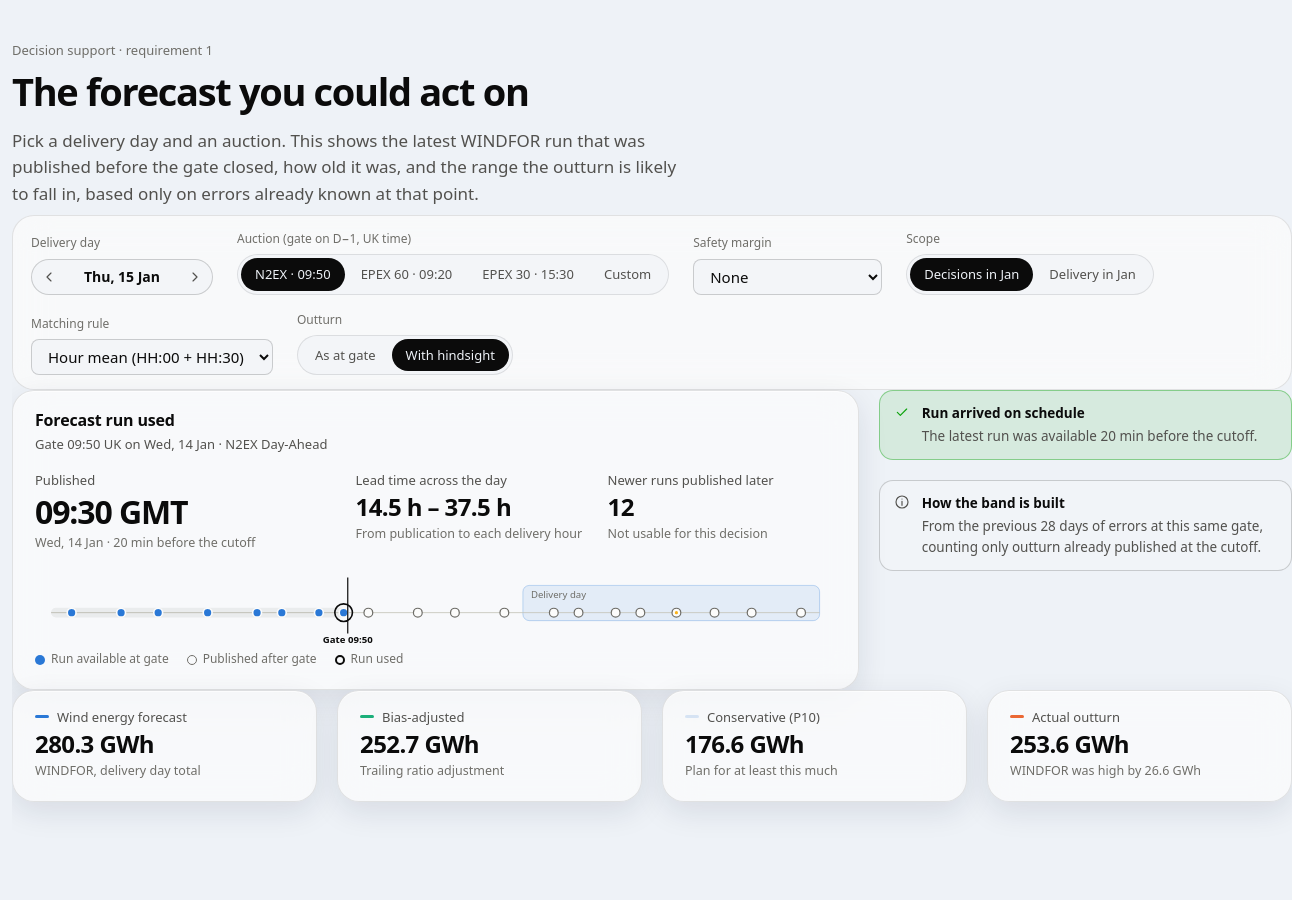
it: DecisionPage › hides the outturn when viewing as at the gate
Expected: the text "09:30 GMT" is shown, [35, 490, 188, 533]
Expected: the text "253.6 GWh" is shown, [1010, 727, 1129, 760]
Click the radio button labelled "As at gate" at (345, 355), box [301, 339, 390, 371]
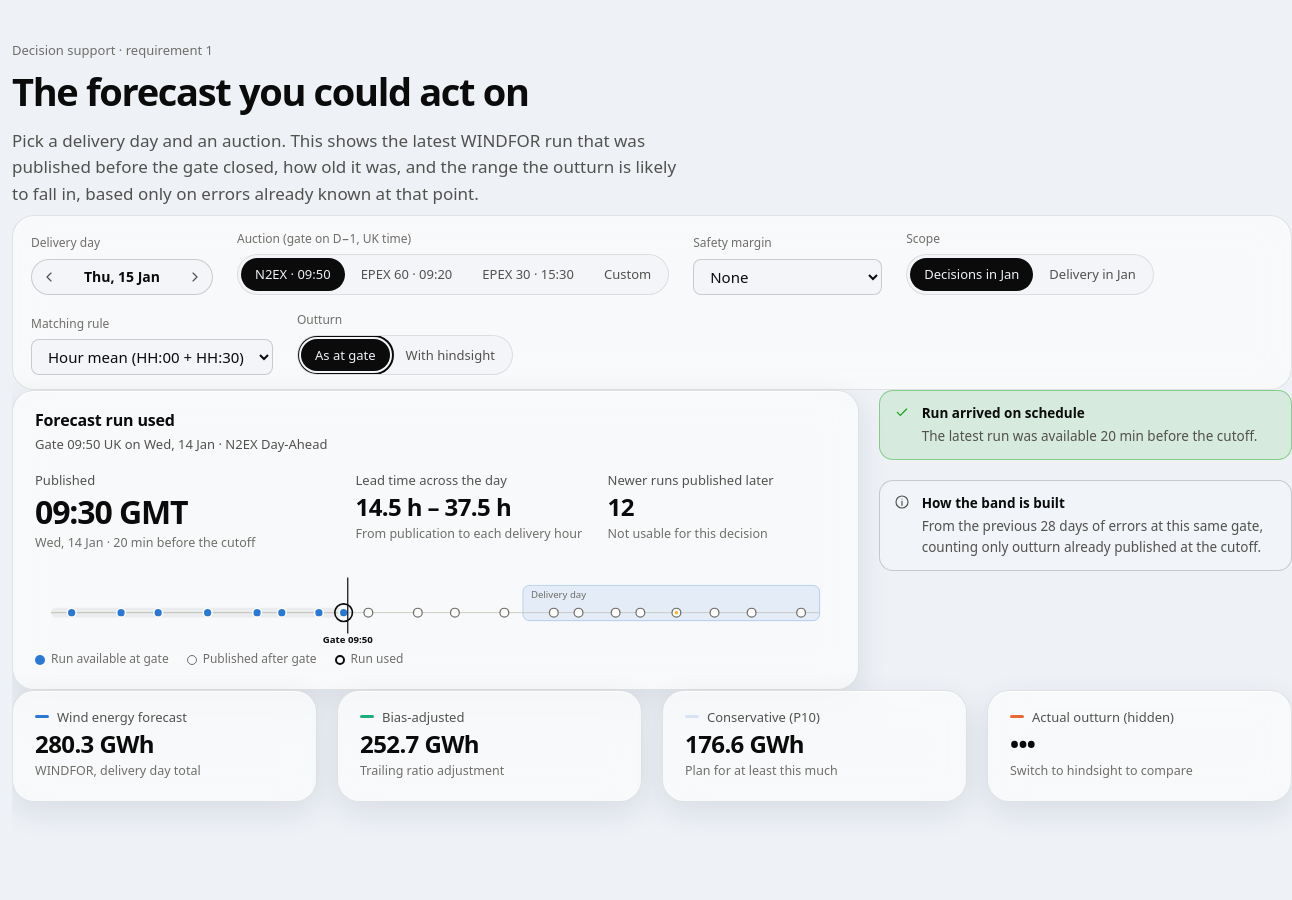
Result: the text "253.6 GWh" is gone
Result: the text "Actual outturn (hidden)" is shown at [1010, 708, 1174, 726]
